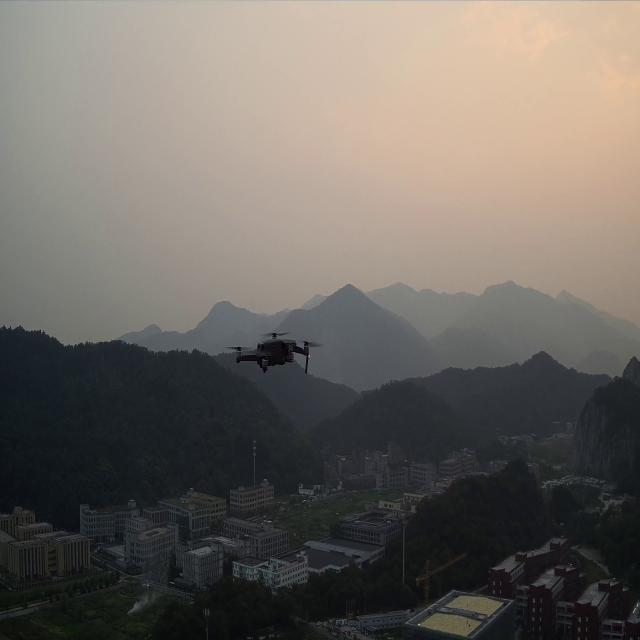UAV: (225, 327, 325, 377)
